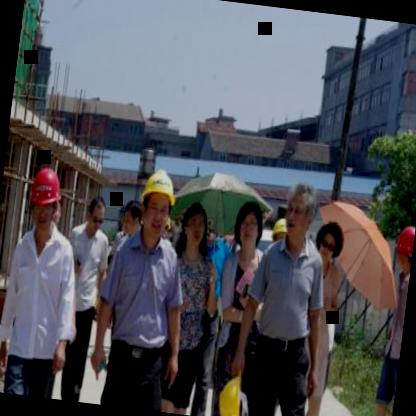head: (282, 178, 320, 249), (174, 200, 212, 258), (229, 199, 267, 254), (312, 222, 346, 266), (82, 193, 110, 235), (120, 194, 143, 240)
helmet: (18, 160, 68, 240), (137, 164, 180, 242), (392, 218, 416, 276)
